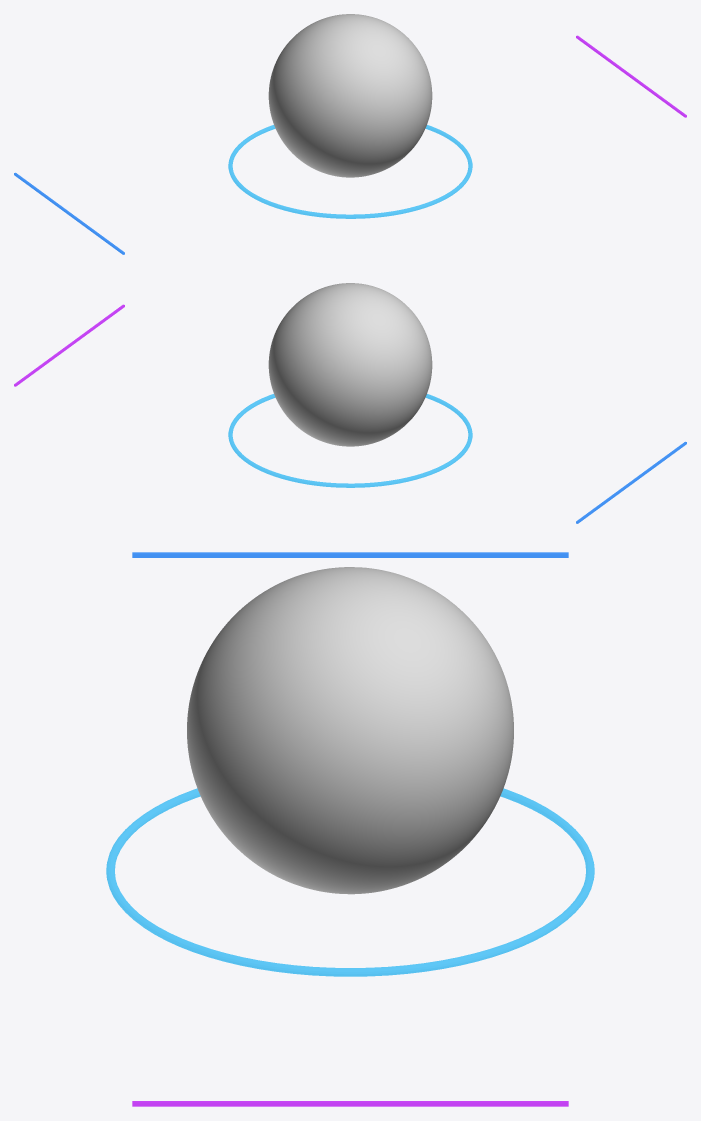
The model's file is sphere_dark.glb.
3 views of the same model, one above another, from view 1: azimuth 30°, elevation 25°; view 2: azimuth 150°, elevation 25°; view 3: azimuth 270°, elevation 25° (orthographic). The views are drawn at different scales.
Visible parts, largest first — view 1: MetallicSphere, NeonRing_Base, NeonStrip_Purple, NeonStrip_Blue; view 2: MetallicSphere, NeonRing_Base, NeonStrip_Blue, NeonStrip_Purple; view 3: MetallicSphere, NeonRing_Base, NeonStrip_Blue, NeonStrip_Purple.
Boxes of the visible parts, box(x1,y1,x2,y2) form: MetallicSphere: box(268, 14, 432, 177); NeonRing_Base: box(228, 125, 472, 218); NeonStrip_Purple: box(576, 35, 686, 117); NeonStrip_Blue: box(14, 172, 124, 254); MetallicSphere: box(268, 283, 432, 446); NeonRing_Base: box(228, 394, 472, 487); NeonStrip_Blue: box(576, 441, 686, 523); NeonStrip_Purple: box(14, 304, 124, 386); MetallicSphere: box(187, 567, 513, 894); NeonRing_Base: box(106, 788, 594, 976); NeonStrip_Blue: box(132, 552, 568, 557); NeonStrip_Purple: box(132, 1101, 568, 1106).
Size of what is drawn, in the model's own units: 11.94 by 3 by 4.48.
